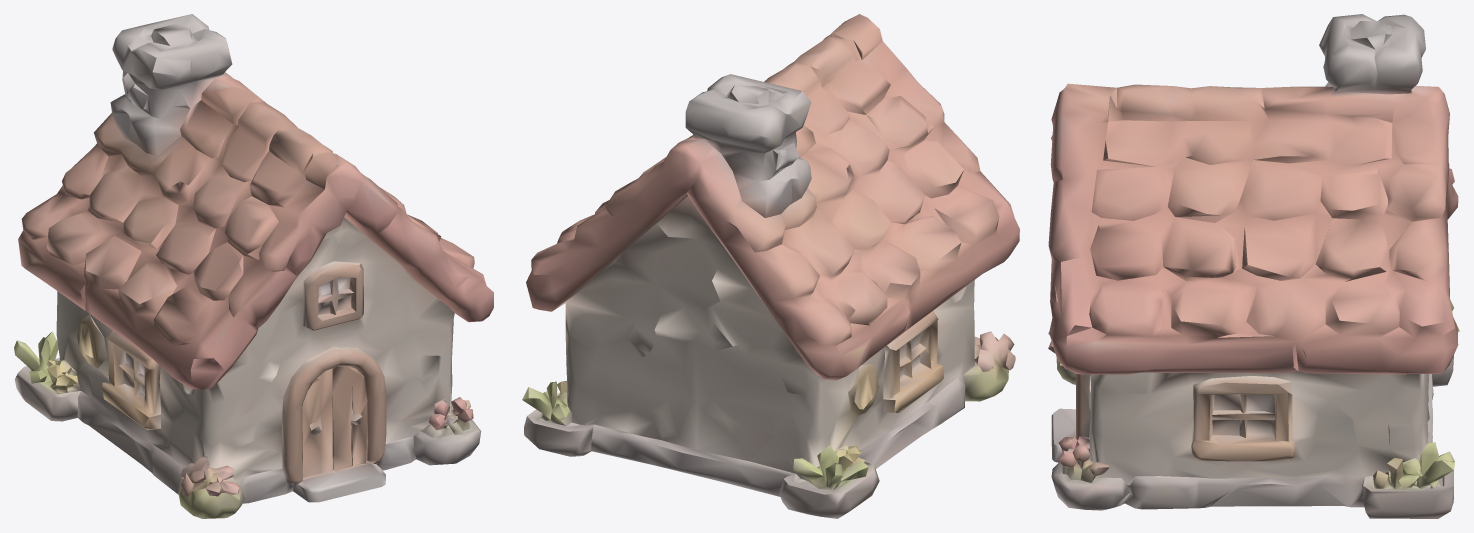
Rendered from npc_house.glb.
The picture shows the model from 3 angles, left to right: view 1: azimuth 30°, elevation 25°; view 2: azimuth 150°, elevation 25°; view 3: azimuth 270°, elevation 25°; orthographic projection. The views are drawn at different scales.
Parts seen in each view (by area): view 1: tripo_node_bb39ea17-85f2-476f-b7c4-6605c47697f5; view 2: tripo_node_bb39ea17-85f2-476f-b7c4-6605c47697f5; view 3: tripo_node_bb39ea17-85f2-476f-b7c4-6605c47697f5.
Boxes of the visible parts, x1,y1,x2,y2 form: tripo_node_bb39ea17-85f2-476f-b7c4-6605c47697f5: [14, 14, 493, 518]; tripo_node_bb39ea17-85f2-476f-b7c4-6605c47697f5: [522, 14, 1019, 518]; tripo_node_bb39ea17-85f2-476f-b7c4-6605c47697f5: [1048, 14, 1459, 518].
Bounding box in the file's own units: 3.8 × 4.2 × 3.94.
